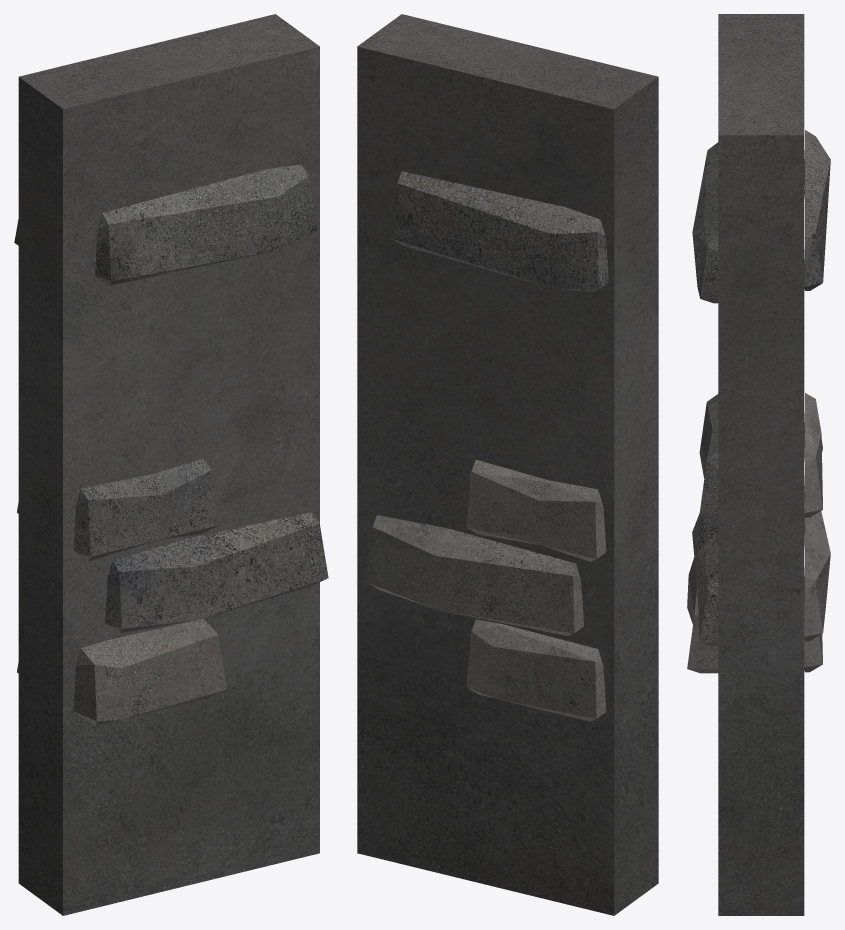
File: Wall_Narrow.fbx
3 renders of one model, left to right at view 1: azimuth 30°, elevation 25°; view 2: azimuth 150°, elevation 25°; view 3: azimuth 270°, elevation 25°, orthographic. The views are drawn at different scales.
Visible parts, largest first — view 1: Wall_Narrow; view 2: Wall_Narrow; view 3: Wall_Narrow.
Boxes of the visible parts, x1,y1,x2,y2 form: Wall_Narrow: (14,14,328,915); Wall_Narrow: (357,14,658,915); Wall_Narrow: (687,14,830,915).
Size of the model in its own units: 1 by 3 by 0.5006.
1 material, 1 textured.
